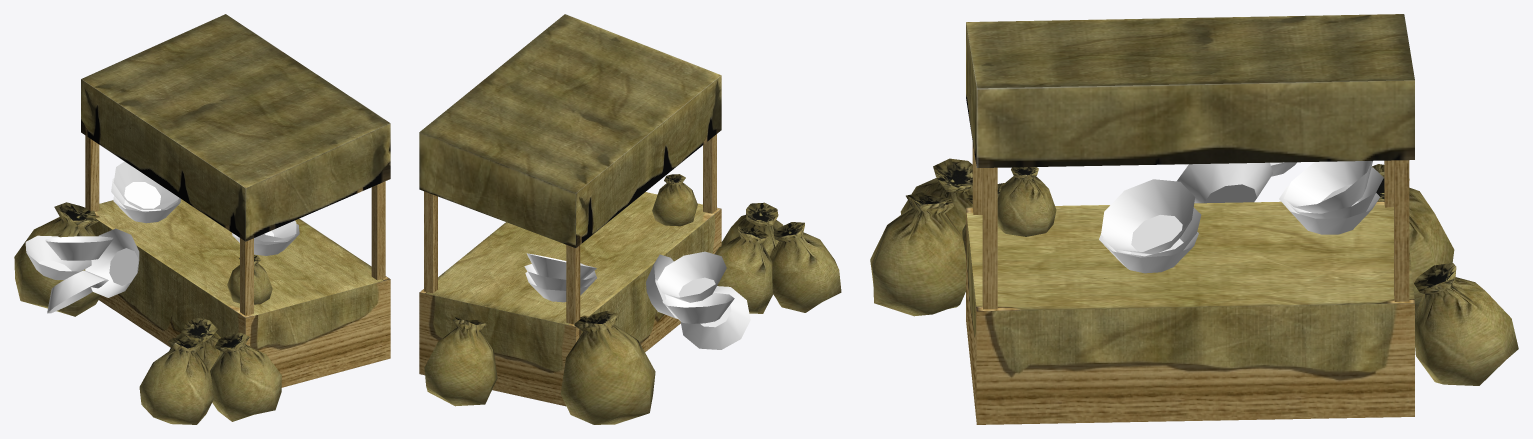
Rendered from store04.fbx.
3 renders of one model, left to right at view 1: azimuth 30°, elevation 25°; view 2: azimuth 150°, elevation 25°; view 3: azimuth 270°, elevation 25°, orthographic. The views are drawn at different scales.
Visible parts, largest first — view 1: stand_11, bag_107, bag_108, bag_105, bowl_105, bowl_109, bowl_104, bowl_106, bowl_103, bag_109, bag_110, bowl_110 (+2 smaller); view 2: stand_11, bag_105, bag_106, bag_107, bag_109, bowl_103, bowl_106, bag_110, bowl_104, bag_108, bowl_109, bowl_105 (+2 smaller); view 3: stand_11, bag_106, bag_108, bowl_108, bowl_109, bag_110, bowl_105, bag_105, bag_107, bowl_110, bowl_101, bowl_102 (+1 smaller).
Boxes of the visible parts, box(x1,y1,x2,y2) form: stand_11: box(81, 14, 390, 387); bag_107: box(139, 338, 213, 424); bag_108: box(210, 332, 281, 421); bag_105: box(14, 202, 101, 316); bowl_105: box(85, 228, 139, 297); bowl_109: box(113, 161, 178, 209); bowl_104: box(25, 235, 91, 279); bowl_106: box(47, 270, 108, 313); bowl_103: box(45, 236, 113, 260); bag_109: box(169, 317, 221, 370); bag_110: box(227, 255, 272, 304); bowl_110: box(113, 195, 180, 223); stand_11: box(419, 14, 721, 406); bag_105: box(560, 311, 655, 424); bag_106: box(424, 317, 497, 406); bag_107: box(770, 222, 841, 312); bag_109: box(714, 226, 773, 313); bowl_103: box(657, 251, 726, 302); bowl_106: box(680, 286, 750, 349); bag_110: box(652, 174, 697, 226); bowl_104: box(662, 292, 734, 323); bag_108: box(721, 202, 783, 256); bowl_109: box(526, 253, 596, 279); bowl_105: box(646, 254, 677, 318); stand_11: box(966, 14, 1414, 424); bag_106: box(1414, 263, 1518, 385); bag_108: box(870, 192, 965, 316); bowl_108: box(1101, 179, 1195, 254); bowl_109: box(1283, 161, 1372, 213); bag_110: box(997, 167, 1056, 236); bowl_105: box(1177, 162, 1273, 203); bag_105: box(1372, 164, 1454, 313); bag_107: box(900, 158, 972, 236); bowl_110: box(1279, 186, 1379, 234); bowl_101: box(1099, 232, 1198, 273); bowl_102: box(1285, 167, 1383, 218).
Size of the model in its own units: 64.78 by 58.25 by 97.61.
